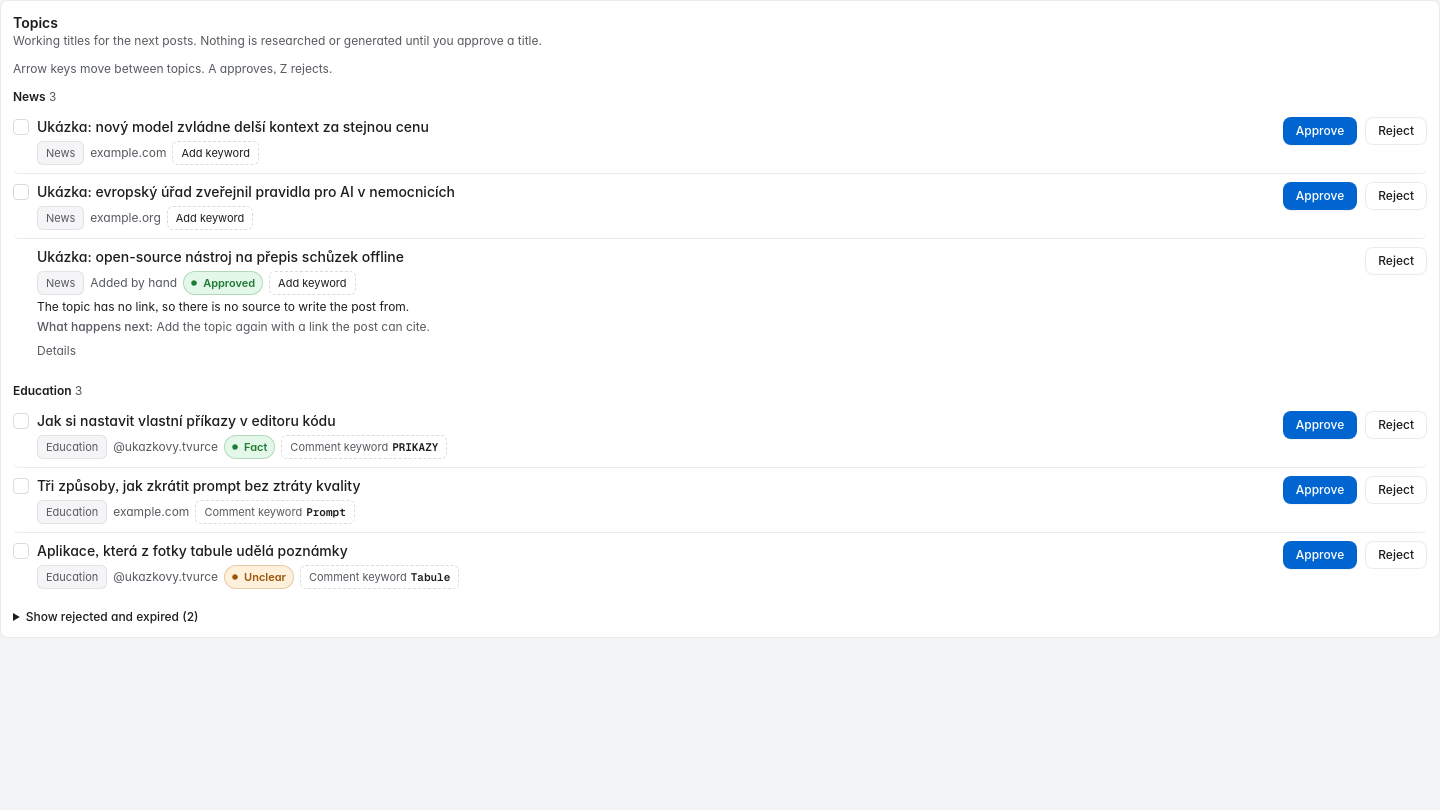
Scenario: DNESKAi topics list (#154) › shows the empty state with the last search time
The width and height of the screenshot is (1440, 810).
What coordinates should you click on to do the following:
click the 1st button "Reject"
I would click on:
 (1396, 131)
Its box is [1365, 117, 1427, 145].
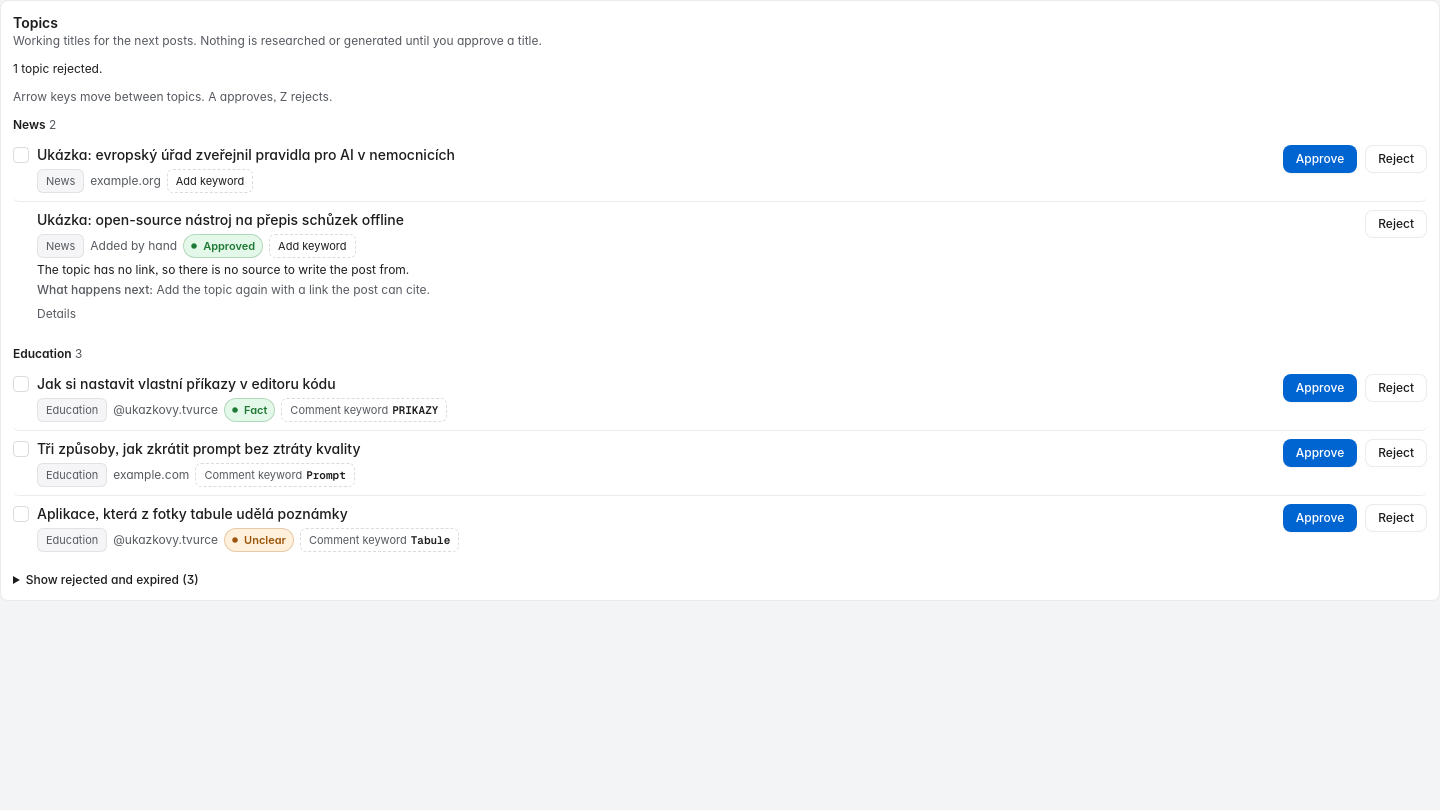
What coordinates should you click on to do the following:
click the 1st button "Reject"
I would click on:
 (1396, 159)
Its box is [1365, 145, 1427, 173].
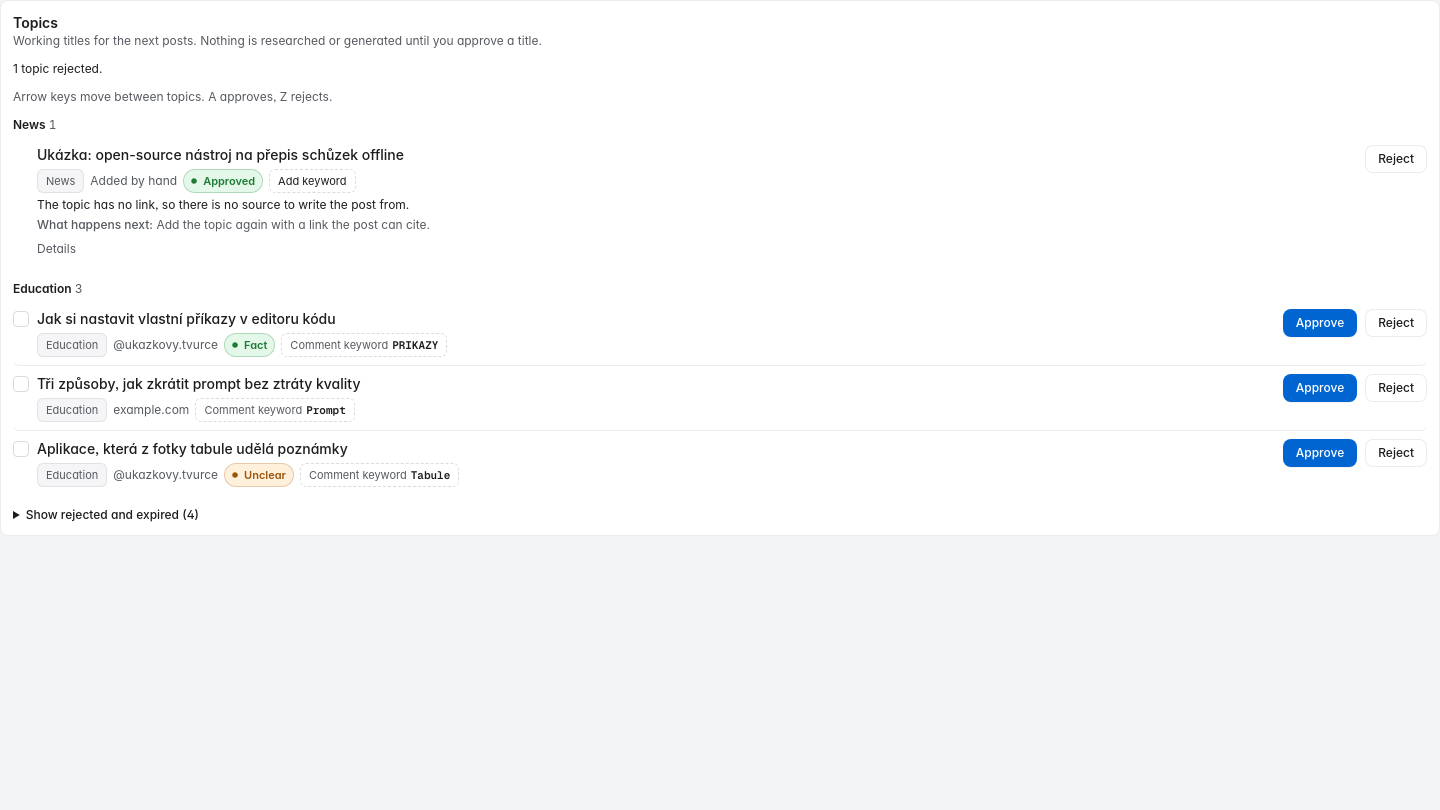
What coordinates should you click on to do the following:
click the 1st button "Reject"
I would click on:
 (1396, 159)
Its box is [1365, 145, 1427, 173].
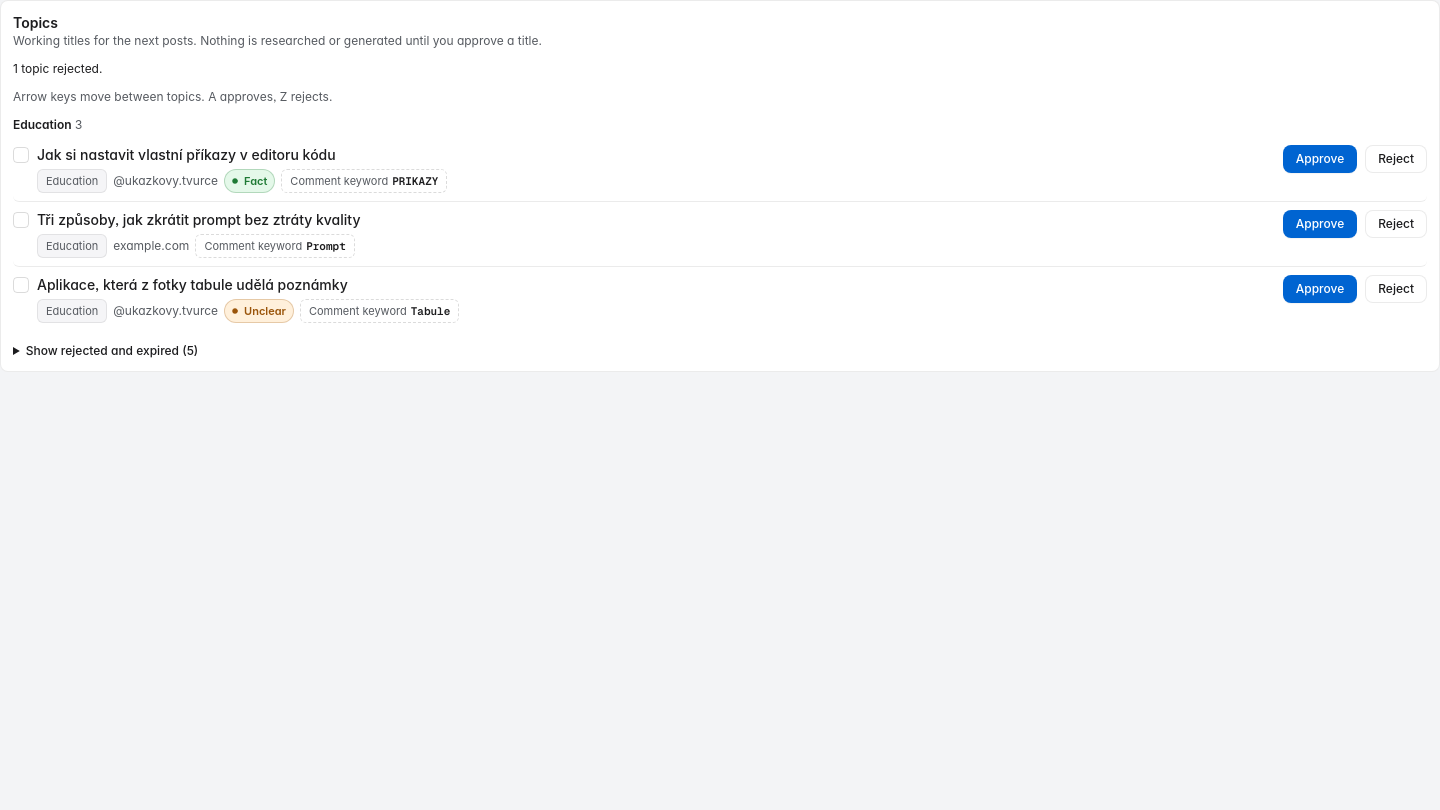
What coordinates should you click on to do the following:
click the 1st button "Reject"
I would click on:
 (1396, 159)
Its box is [1365, 145, 1427, 173].
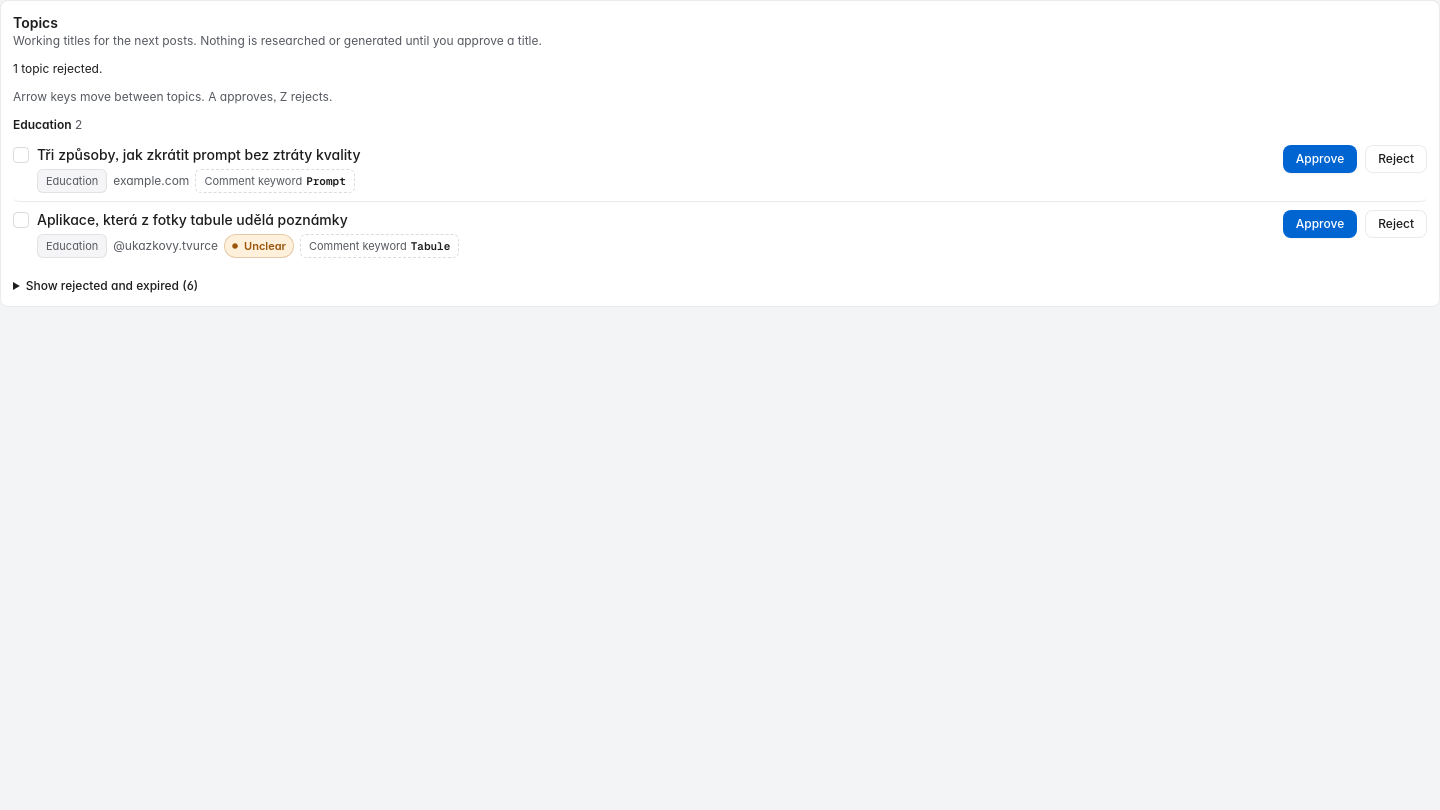
What coordinates should you click on to do the following:
click the 1st button "Reject"
I would click on:
 (1396, 159)
Its box is [1365, 145, 1427, 173].
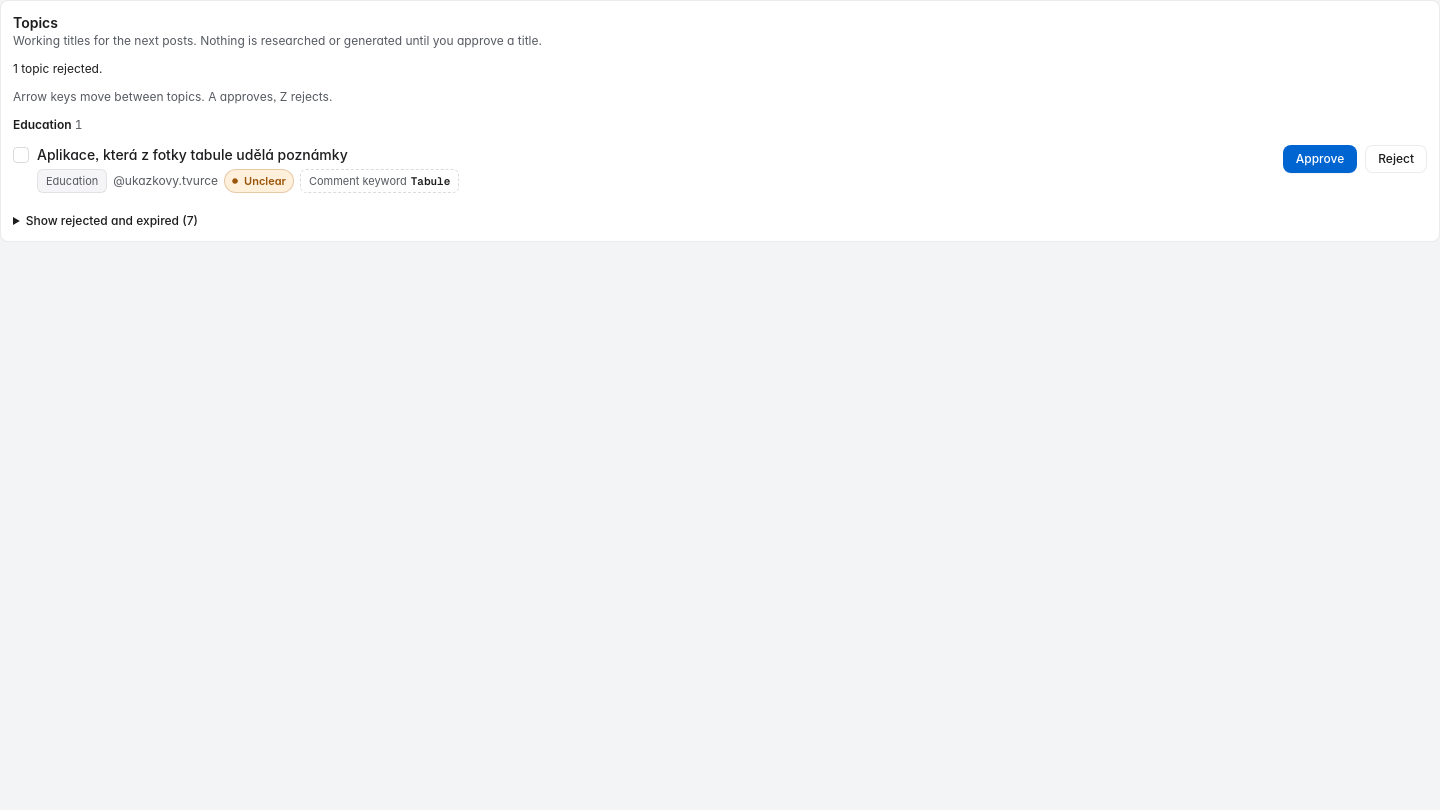
What coordinates should you click on to do the following:
click the button "Reject"
I would click on:
 (1396, 159)
Its box is [1365, 145, 1427, 173].
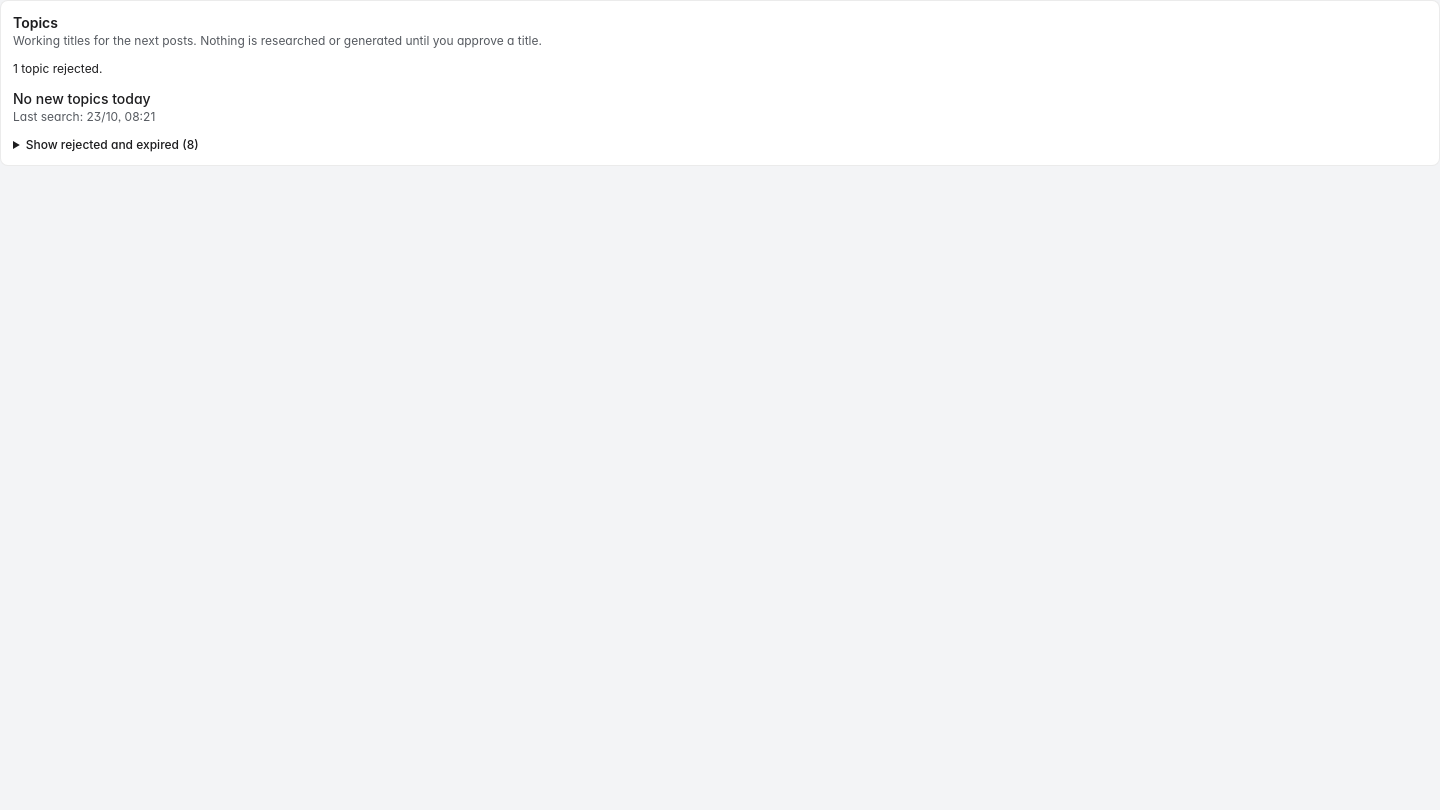
Now the element with test id "dneskai-topics-empty" shows "No new topics today", box [13, 90, 151, 107]
Now the element with test id "dneskai-topics-empty" shows "Last search:", box [13, 109, 155, 124]
